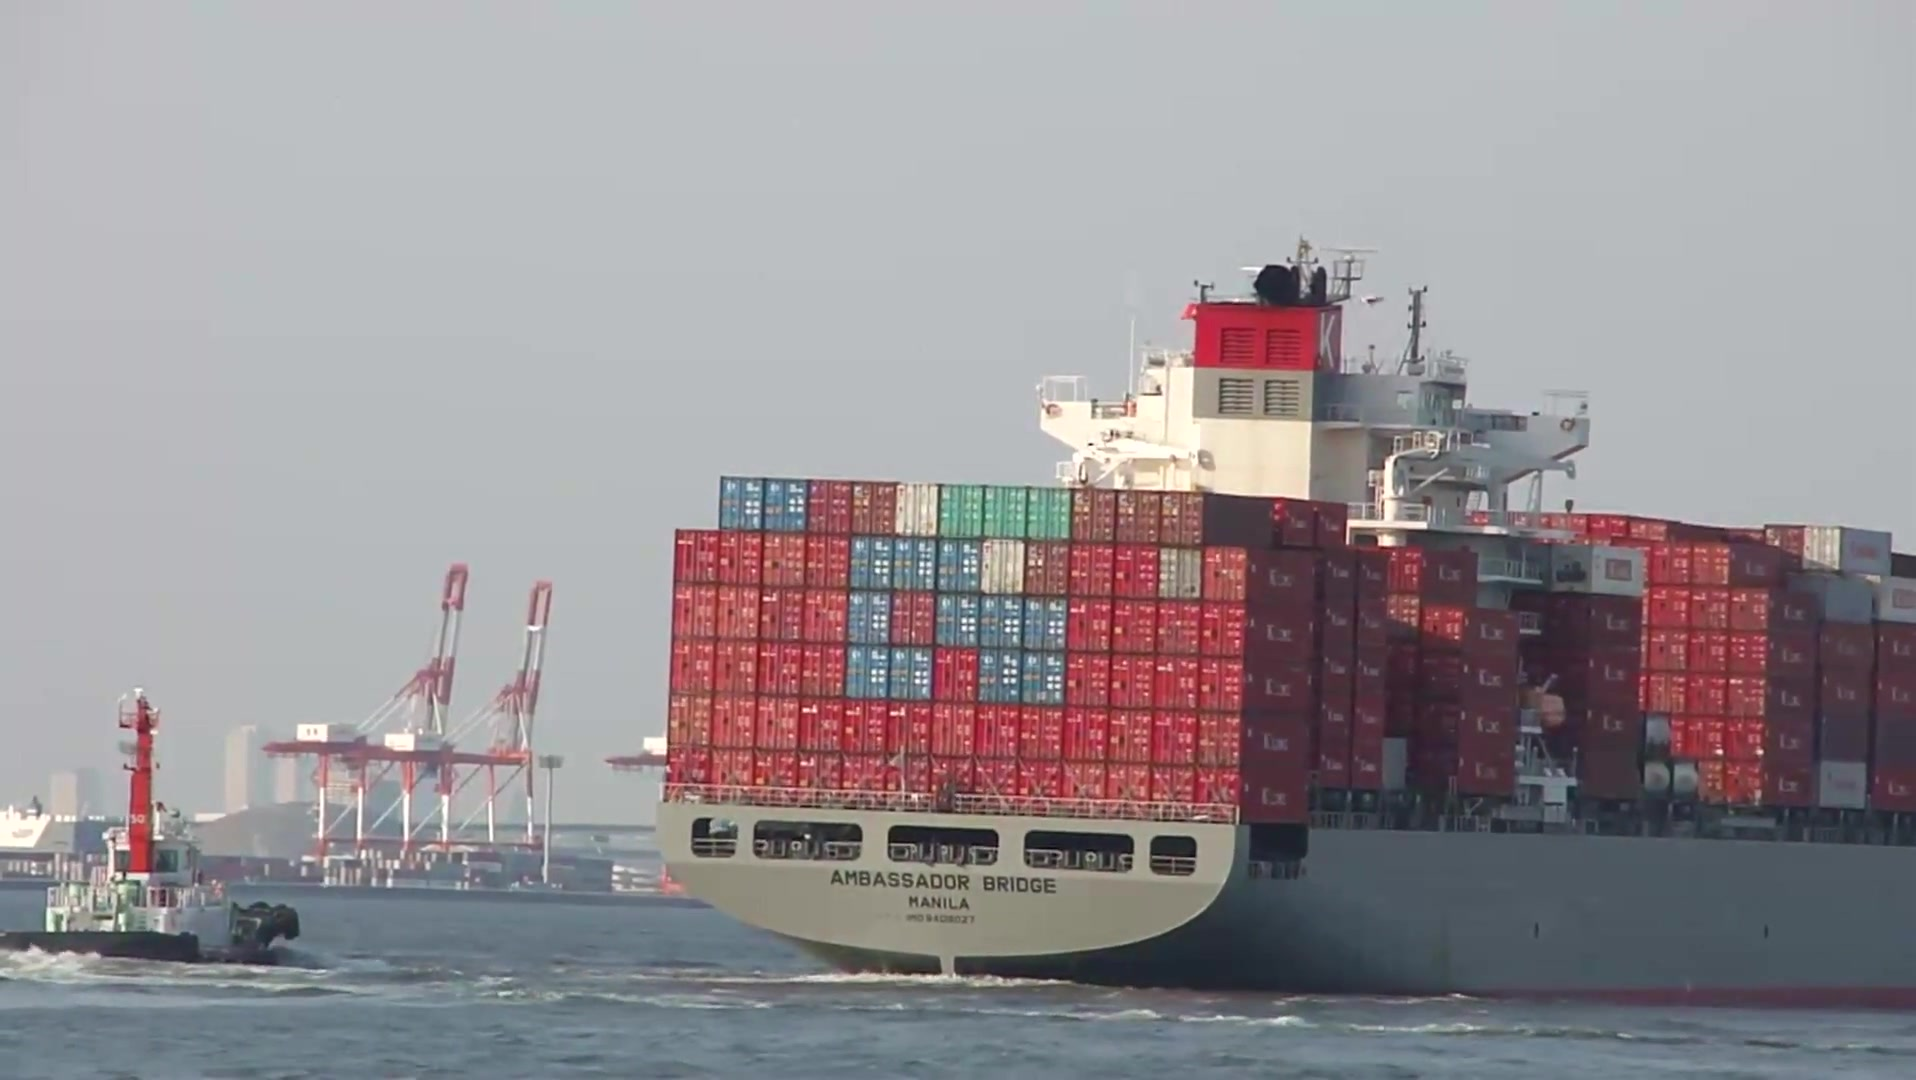boat: (658, 239, 1916, 1012), (5, 685, 301, 977)
